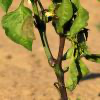Bell_pepper leaf spot: (1, 5, 35, 53), (66, 49, 92, 91)
